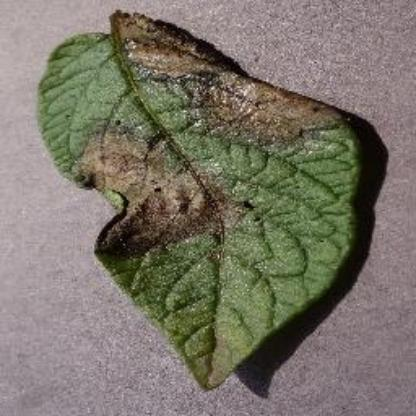Late-Blight: (19, 7, 384, 405)
